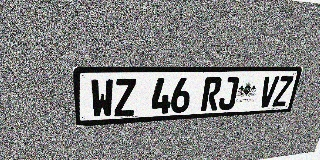4: (151, 78, 173, 114)
6: (170, 78, 192, 113)
J: (218, 77, 240, 110)
R: (201, 77, 223, 111)
V: (258, 76, 280, 108)
W: (90, 79, 114, 118)
Z: (114, 78, 136, 117), (272, 76, 294, 107)
